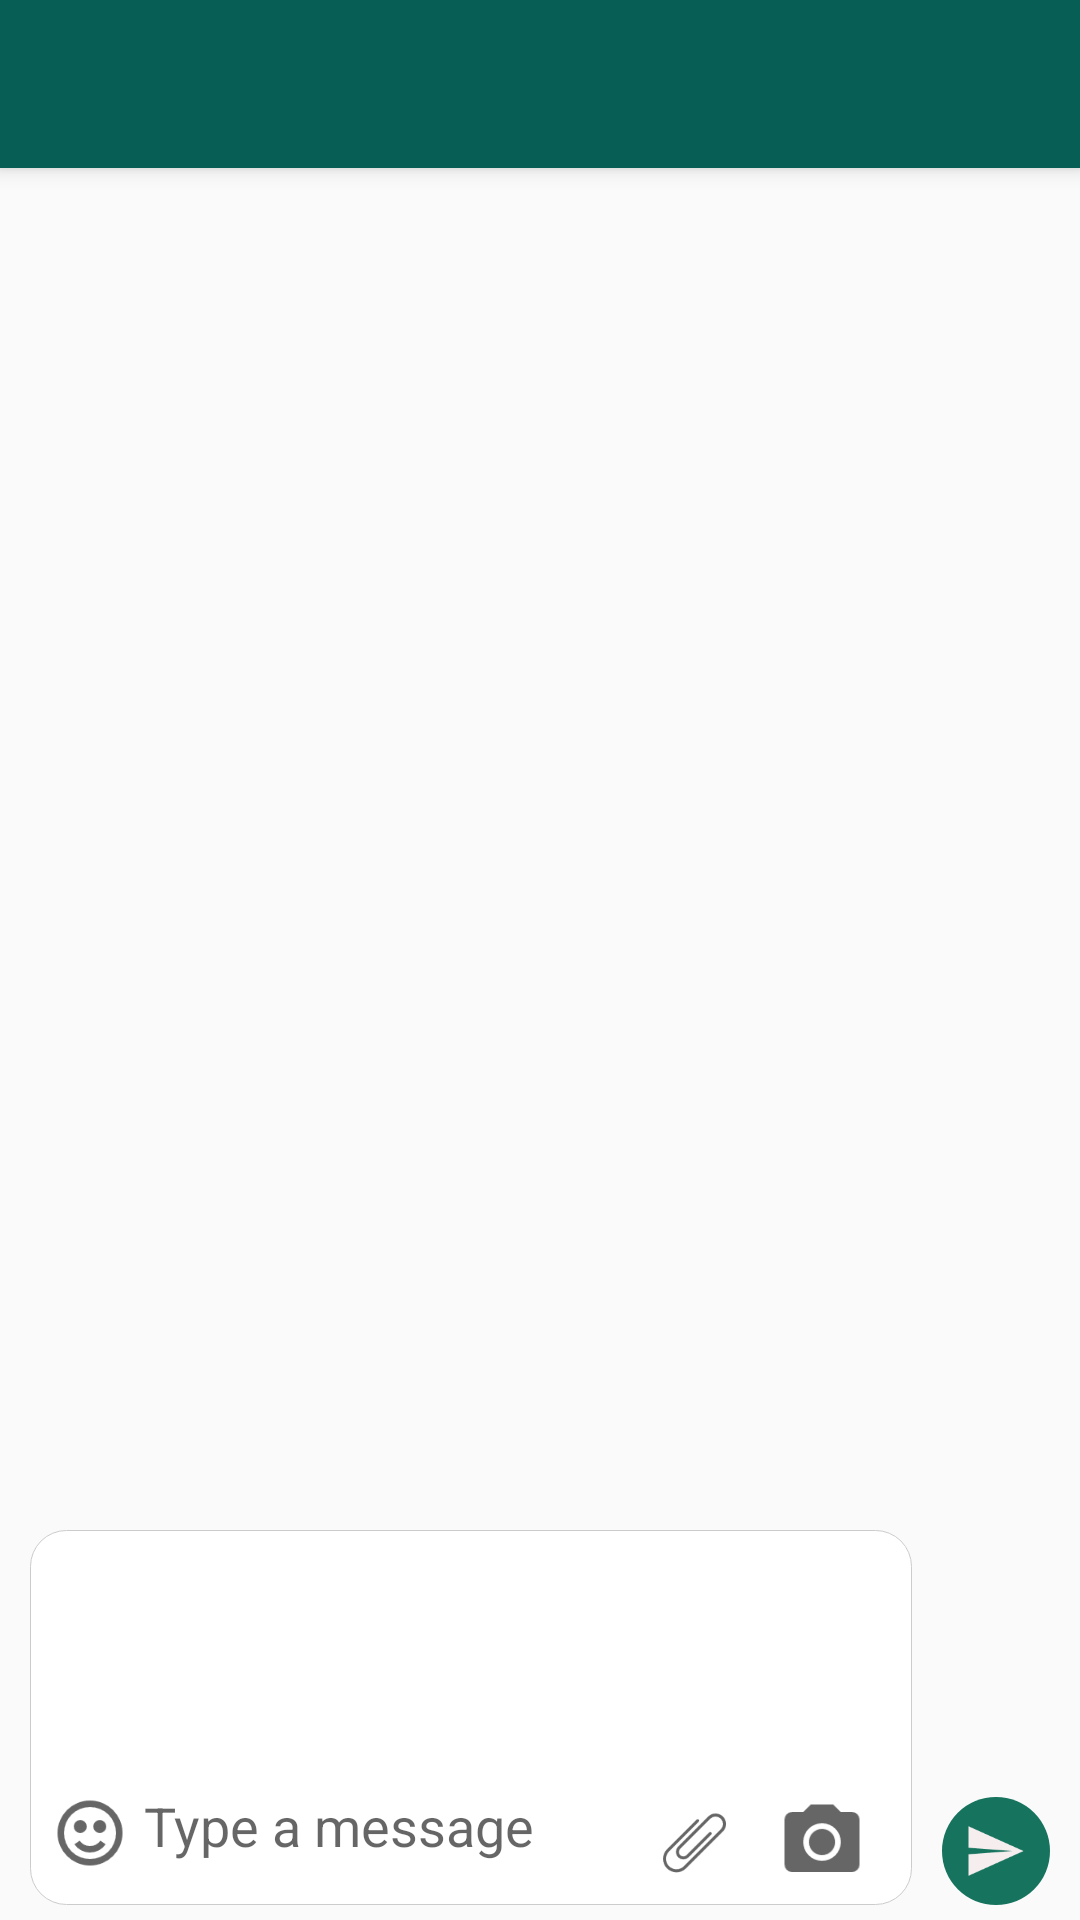

Icon click points for this 1080px×1920px phone screenshot, format (x,y):
attach: (694,1843)
camera: (822,1838)
emoji: (90,1833)
send: (996,1851)
